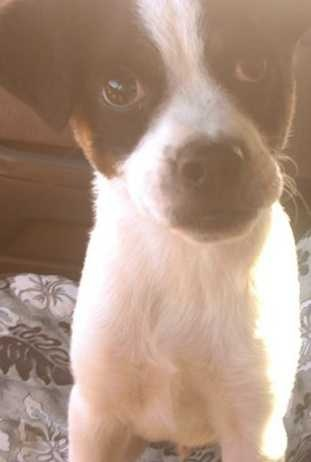dog: (0, 0, 290, 414)
